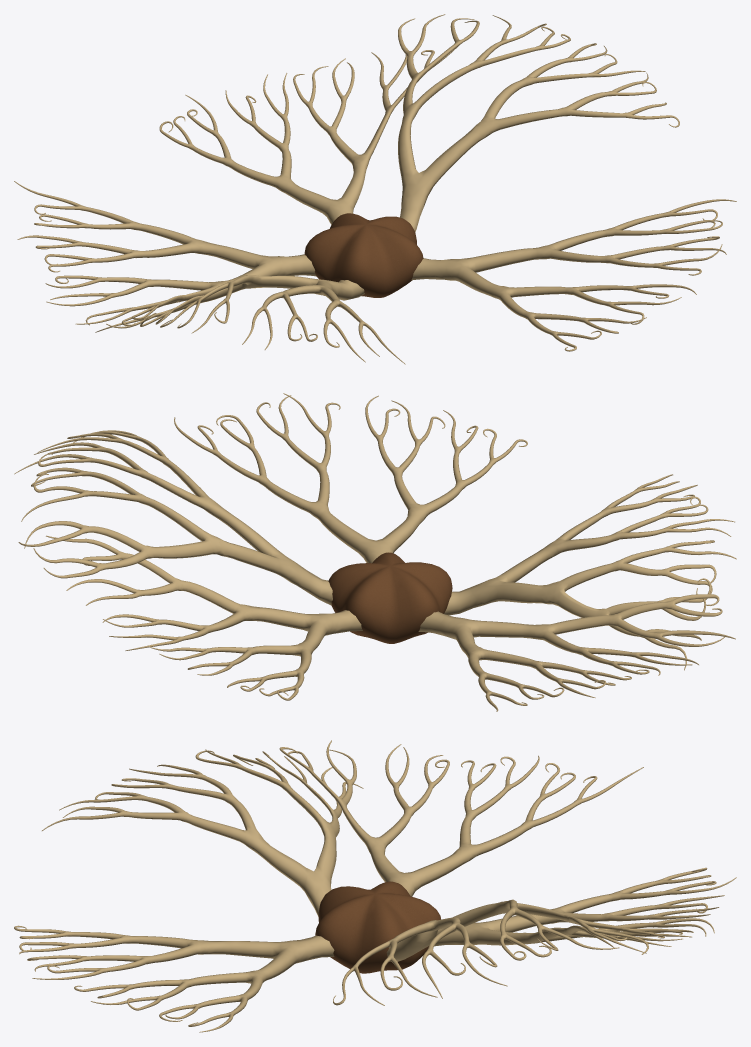
File: NEW695_BasketStar_LOD2.fbx
The picture shows the model from 3 angles, top to bottom: view 1: azimuth 30°, elevation 25°; view 2: azimuth 150°, elevation 25°; view 3: azimuth 270°, elevation 25°; orthographic projection. The views are drawn at different scales.
Parts seen in each view (by area): view 1: Basket_star_connected_five_primary_arms, Volumetric_central_disc_with_five_radial_shoulders; view 2: Basket_star_connected_five_primary_arms, Volumetric_central_disc_with_five_radial_shoulders; view 3: Basket_star_connected_five_primary_arms, Volumetric_central_disc_with_five_radial_shoulders.
Boxes of the visible parts, x1=… form: Basket_star_connected_five_primary_arms: x1=14, y1=14, x2=736, y2=364; Volumetric_central_disc_with_five_radial_shoulders: x1=304, y1=213, x2=423, y2=297; Basket_star_connected_five_primary_arms: x1=14, y1=393, x2=736, y2=711; Volumetric_central_disc_with_five_radial_shoulders: x1=328, y1=552, x2=452, y2=643; Basket_star_connected_five_primary_arms: x1=14, y1=740, x2=736, y2=1032; Volumetric_central_disc_with_five_radial_shoulders: x1=315, y1=881, x2=441, y2=973.
Size of the model in its own units: 0.3 by 0.0679 by 0.2813.
Materials: 1 (1 with a texture image).
